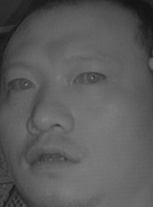eye: (73, 67, 107, 88), (7, 74, 39, 94)
mouth: (21, 140, 83, 175)
